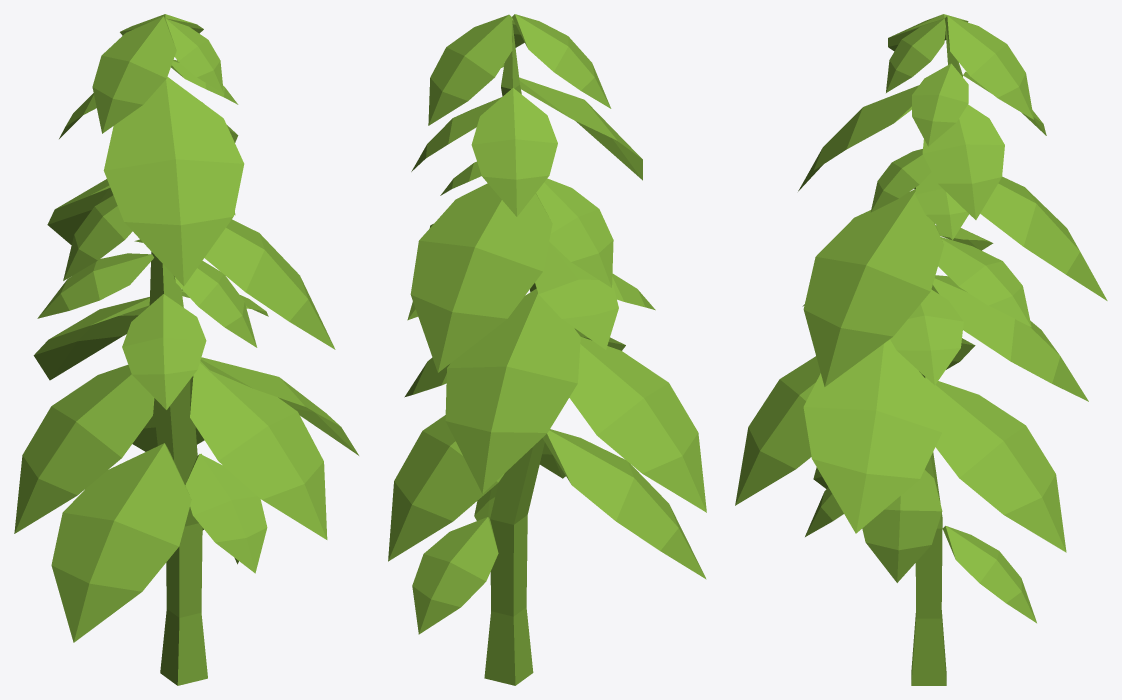
File: model_polytope_plant05.fbx
The picture shows the model from 3 angles, left to right: view 1: azimuth 30°, elevation 25°; view 2: azimuth 150°, elevation 25°; view 3: azimuth 270°, elevation 25°; orthographic projection.
Parts seen in each view (by area): view 1: prefab_polytope_plant05; view 2: prefab_polytope_plant05; view 3: prefab_polytope_plant05.
Boxes of the visible parts, bbox=[...] form: prefab_polytope_plant05: bbox=[14, 14, 358, 685]; prefab_polytope_plant05: bbox=[388, 14, 706, 685]; prefab_polytope_plant05: bbox=[735, 14, 1107, 685].
Bounding box in the file's own units: 21.58 × 42.23 × 21.68.
Materials: 1 (1 with a texture image).
